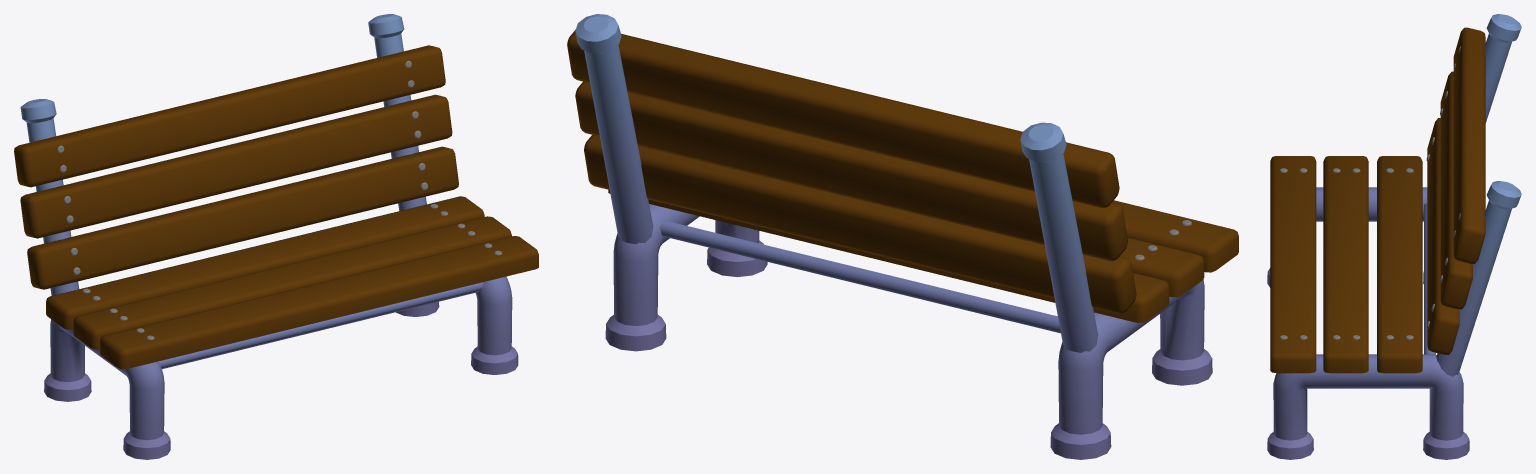
The model's file is Bench_1_1.glb.
3 renders of one model, left to right at view 1: azimuth 30°, elevation 25°; view 2: azimuth 150°, elevation 25°; view 3: azimuth 270°, elevation 25°, orthographic. The views are drawn at different scales.
Visible parts, largest first — view 1: Bench_1_1; view 2: Bench_1_1; view 3: Bench_1_1.
Boxes of the visible parts, left/top/right/bottom form: Bench_1_1: left=14, top=14, right=538, bottom=459; Bench_1_1: left=567, top=14, right=1238, bottom=459; Bench_1_1: left=1267, top=14, right=1521, bottom=459.
Size of the model in its own units: 1.9 by 1.17 by 1.01.
Materials: 3 (3 with a texture image).
